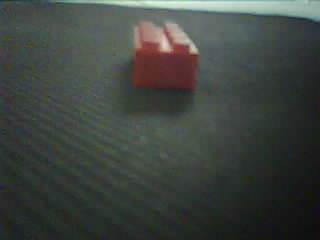lego: (131, 21, 200, 90)
